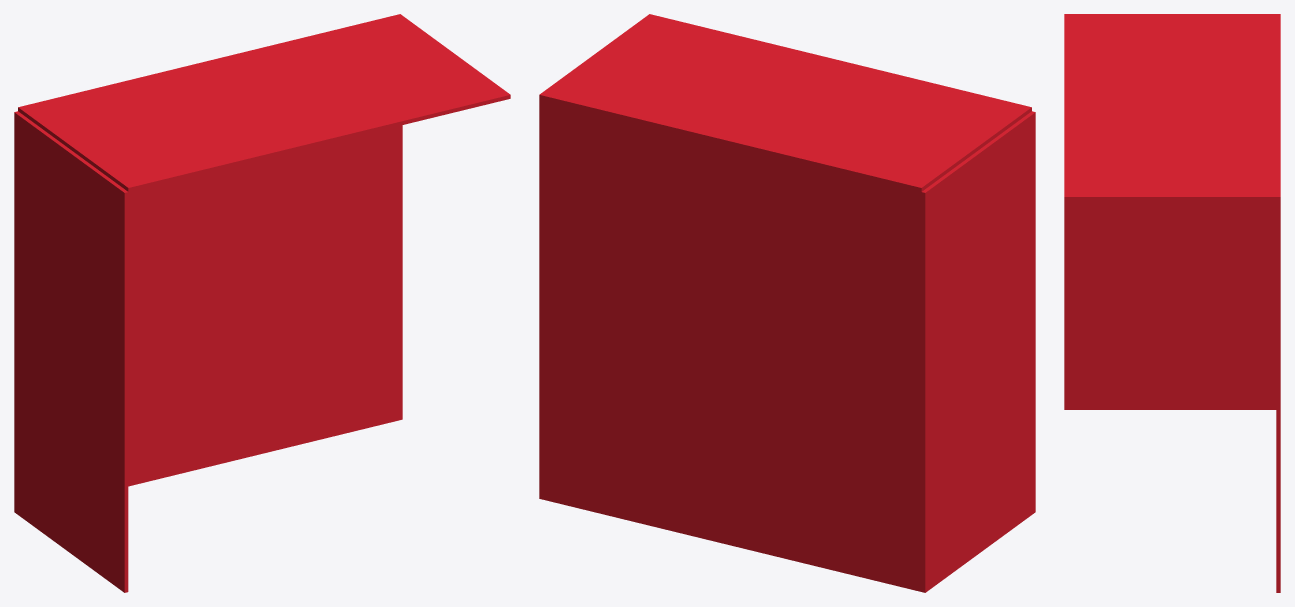
File: map_test.obj
3 renders of one model, left to right at view 1: azimuth 30°, elevation 25°; view 2: azimuth 150°, elevation 25°; view 3: azimuth 270°, elevation 25°, orthographic.
Parts seen in each view (by area): view 1: obj_0; view 2: obj_0; view 3: obj_0.
Part boxes in pixels (x1,y1,x2,y2): obj_0: (14, 14, 510, 592); obj_0: (539, 14, 1035, 592); obj_0: (1064, 14, 1280, 592).
Size of the model in its own units: 101 by 101 by 50.
